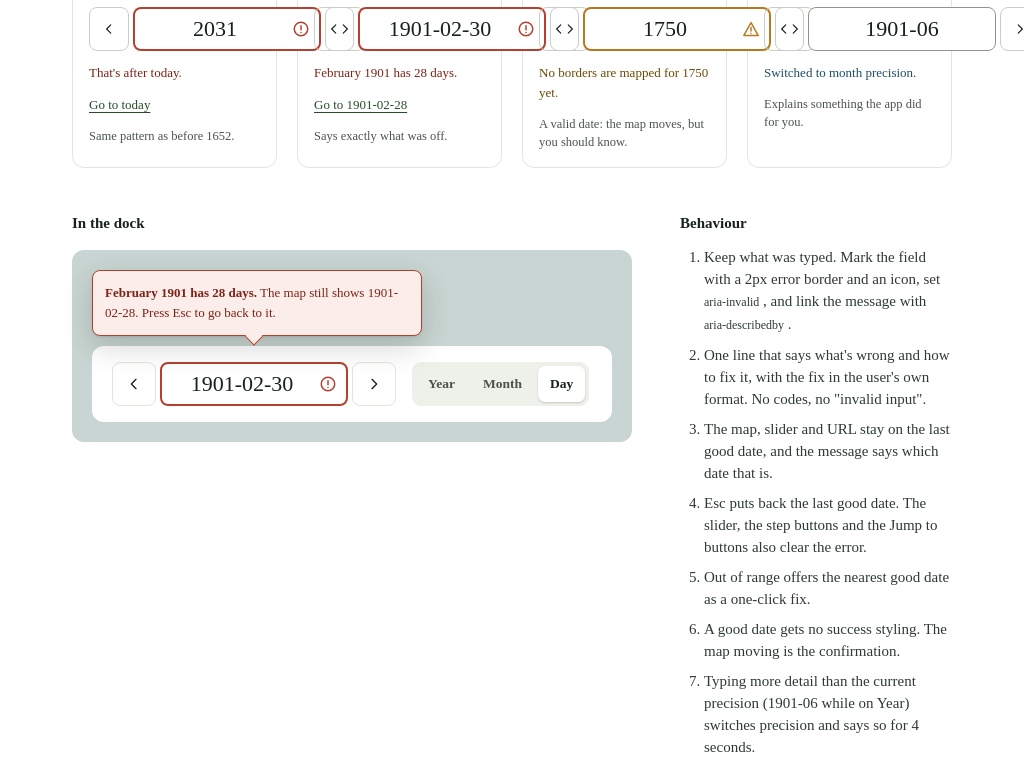
Test case: steps the dock by a day
(page scrolled)
What coordinates should you click on to do the following:
click the button named "Forward one day"
I would click on:
 (374, 384)
Its box is [352,362,396,406].
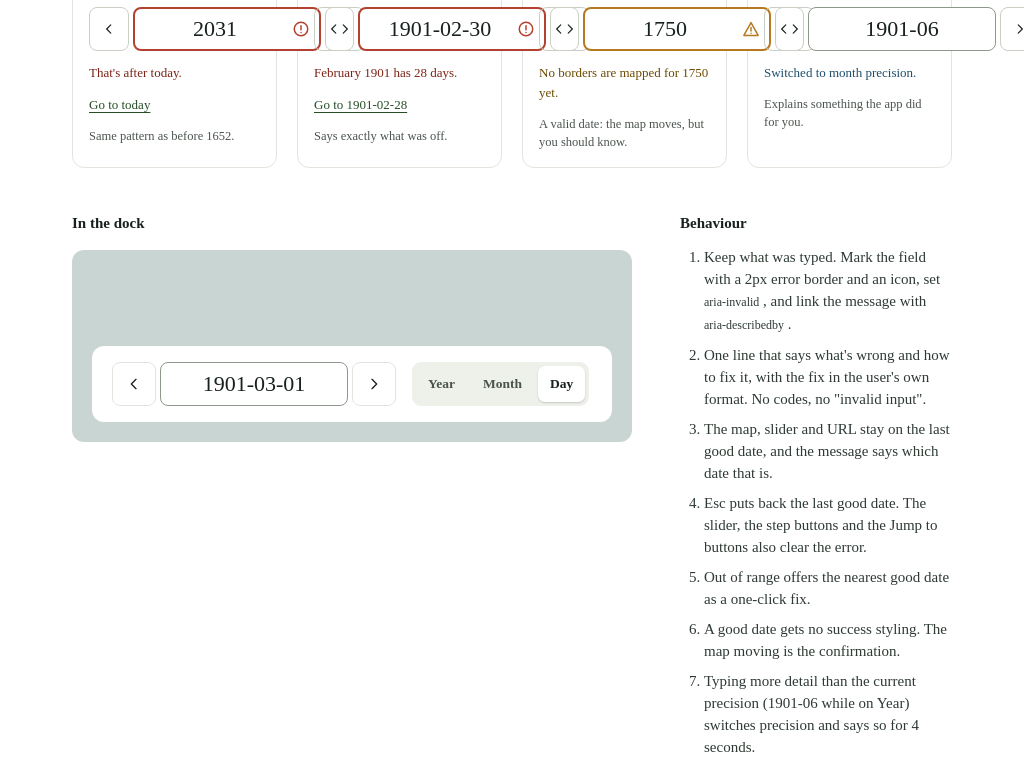
Expected: the 5th field named "Date shown" holds "1901-03-01", [173,362,335,406]
What coordinates should you click on to do the following:
click the button named "Back one day"
I would click on:
 (134, 384)
Its box is [112,362,156,406].
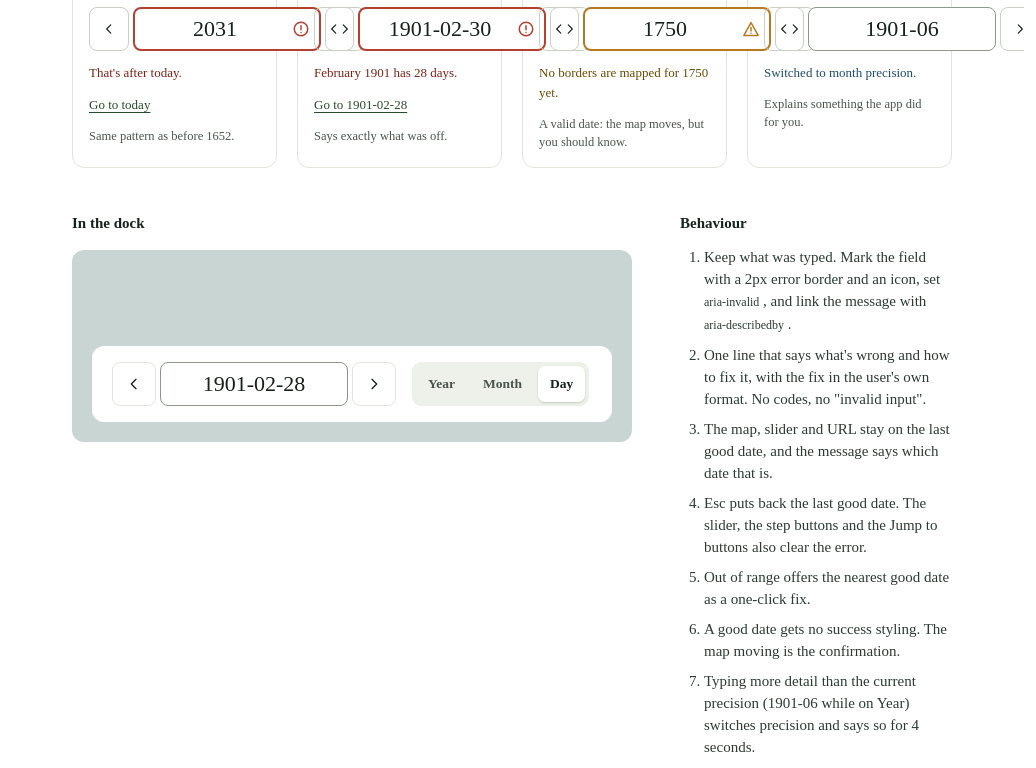
What coordinates should you click on to do the following:
click the button named "Back one day"
I would click on:
 (134, 384)
Its box is [112,362,156,406].
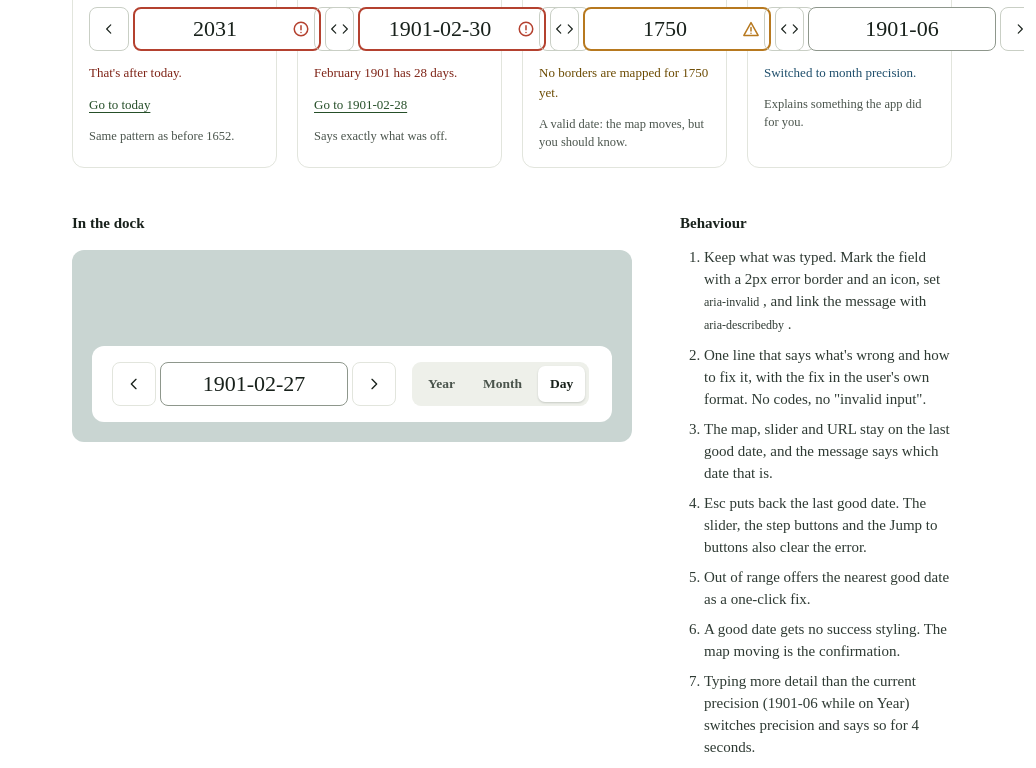
Expected: the 5th field named "Date shown" holds "1901-02-27", [173,362,335,406]
